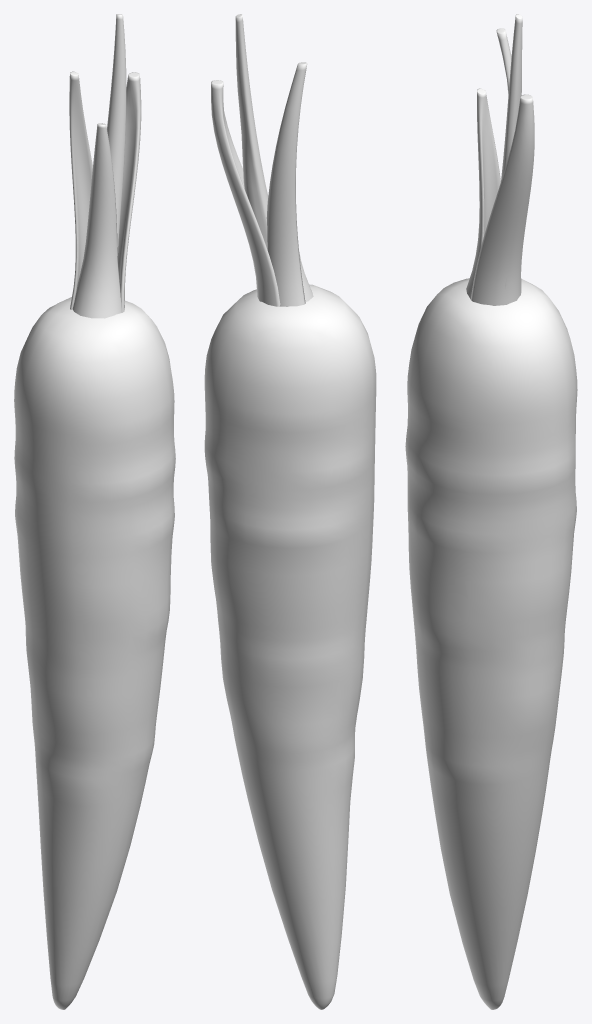
The model's file is export_carrot_animation3.glb.
3 views of the same model, side by side, from view 1: azimuth 30°, elevation 25°; view 2: azimuth 150°, elevation 25°; view 3: azimuth 270°, elevation 25° (orthographic). The views are drawn at different scales.
Visible parts, largest first — view 1: node_id5; view 2: node_id5; view 3: node_id5.
Boxes of the visible parts, bbox=[...] form: node_id5: bbox=[14, 14, 175, 1009]; node_id5: bbox=[204, 14, 376, 1009]; node_id5: bbox=[405, 14, 577, 1009].
Bounding box in the file's own units: 0.0791 × 0.512 × 0.0775.
Materials: 1 (1 with a texture image).
